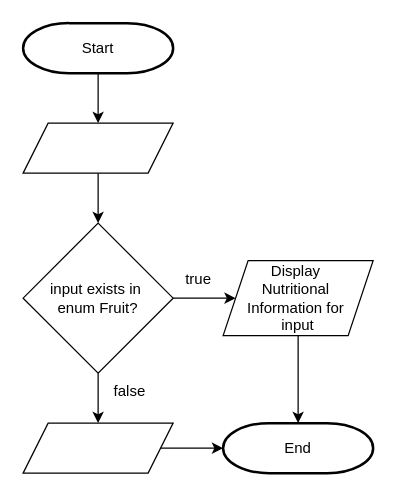
Image size: 395x495. Some labels were removed from this diagram. The centre of each missing label's shape, as x and y in pixels:
"Catch error: invalid fruit name" goes at point 97,447.
"Read input" goes at point 97,147.
